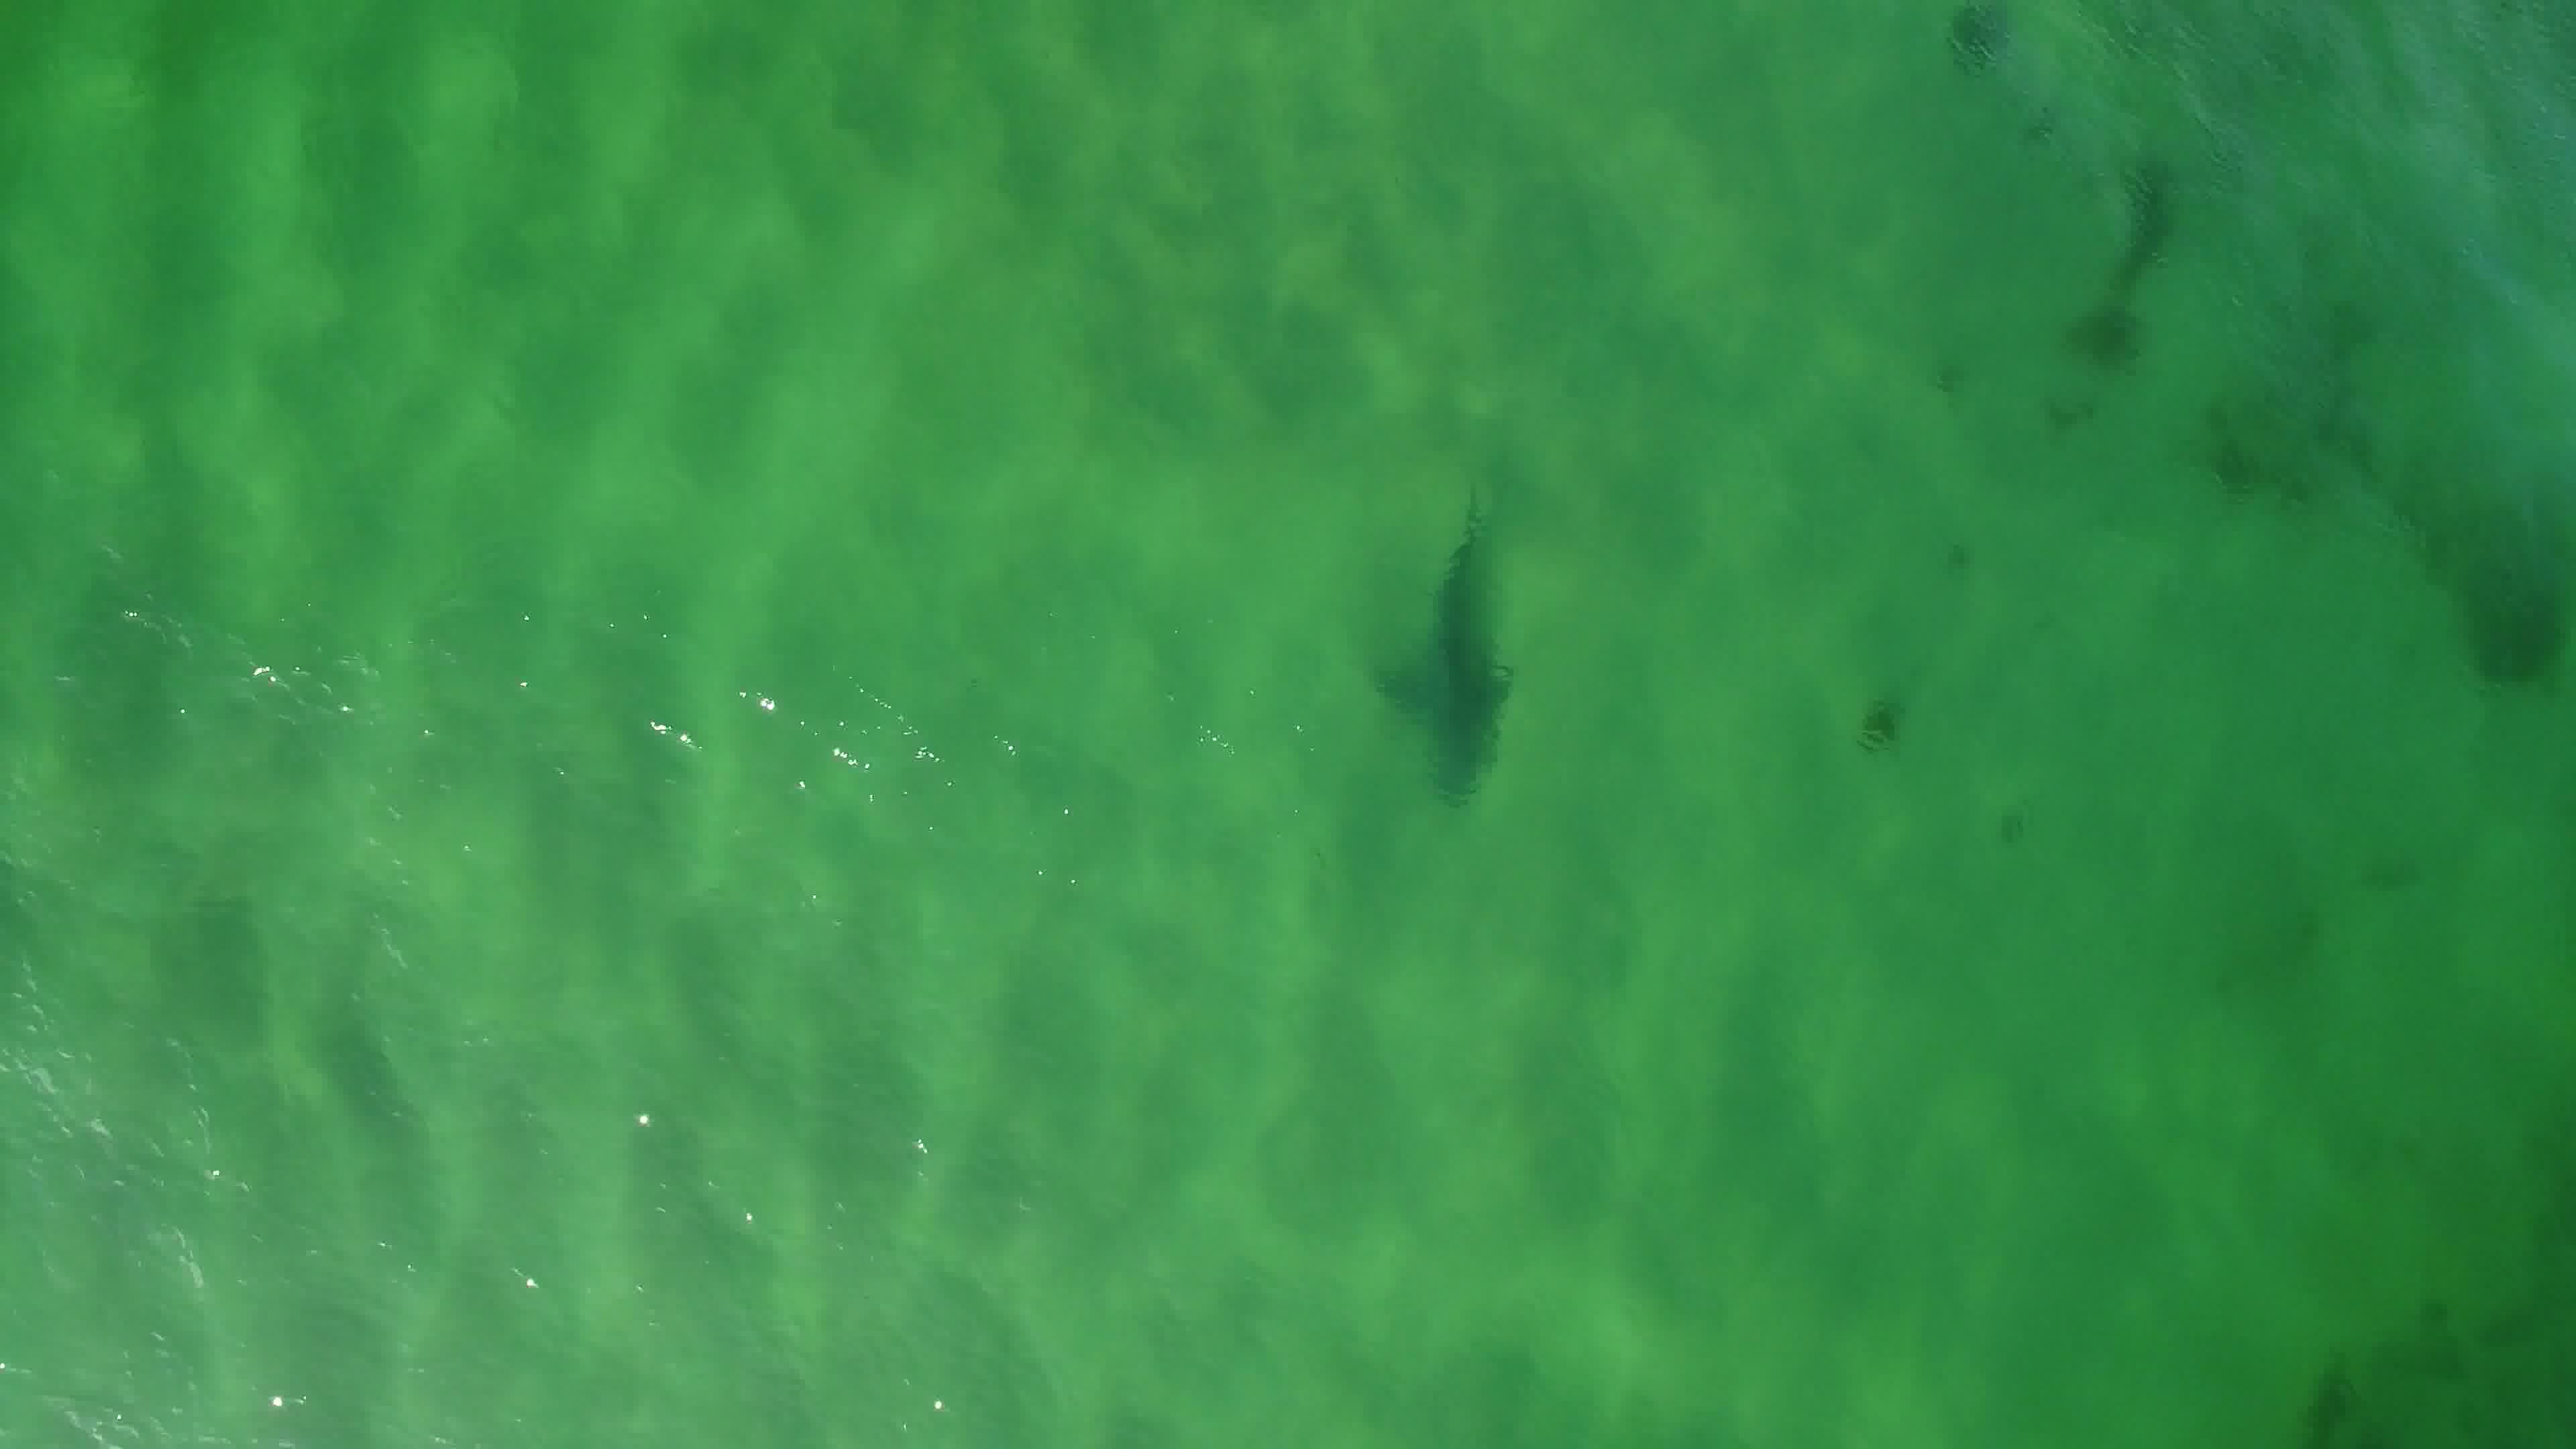shark: (1371, 483, 1522, 814)
